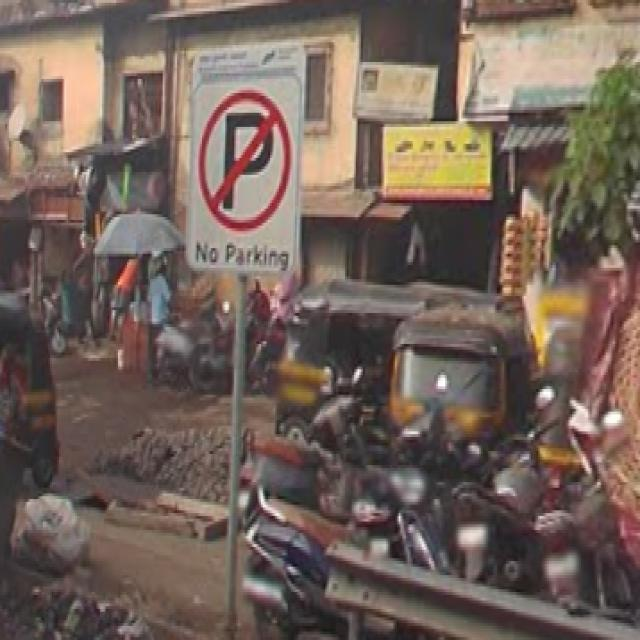no parking: (196, 89, 294, 232)
